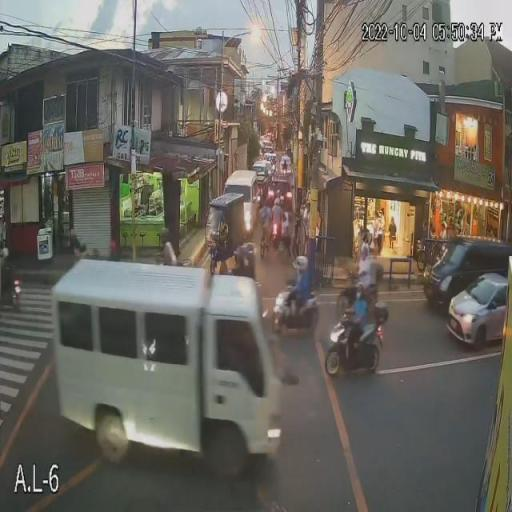helmet: (359, 285, 386, 300), (288, 254, 310, 271), (353, 284, 363, 304)
motorcycle: (327, 302, 389, 378), (269, 285, 321, 339)
rider: (355, 296, 384, 353), (342, 296, 366, 343), (291, 267, 311, 308)
